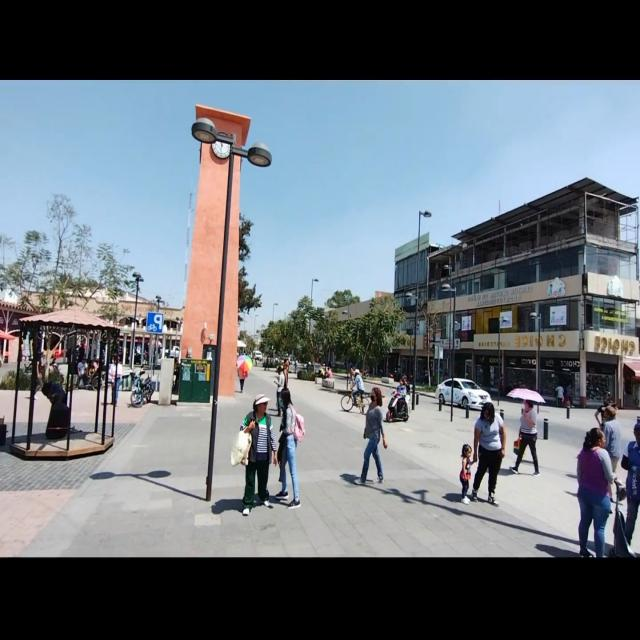adult: (575, 428, 618, 556), (240, 392, 278, 517), (471, 402, 507, 502), (274, 386, 302, 507), (354, 387, 388, 484), (620, 422, 640, 550), (508, 399, 540, 476), (601, 406, 622, 474), (275, 359, 288, 417), (392, 374, 409, 416), (350, 369, 364, 407)
child: (458, 443, 476, 505)
